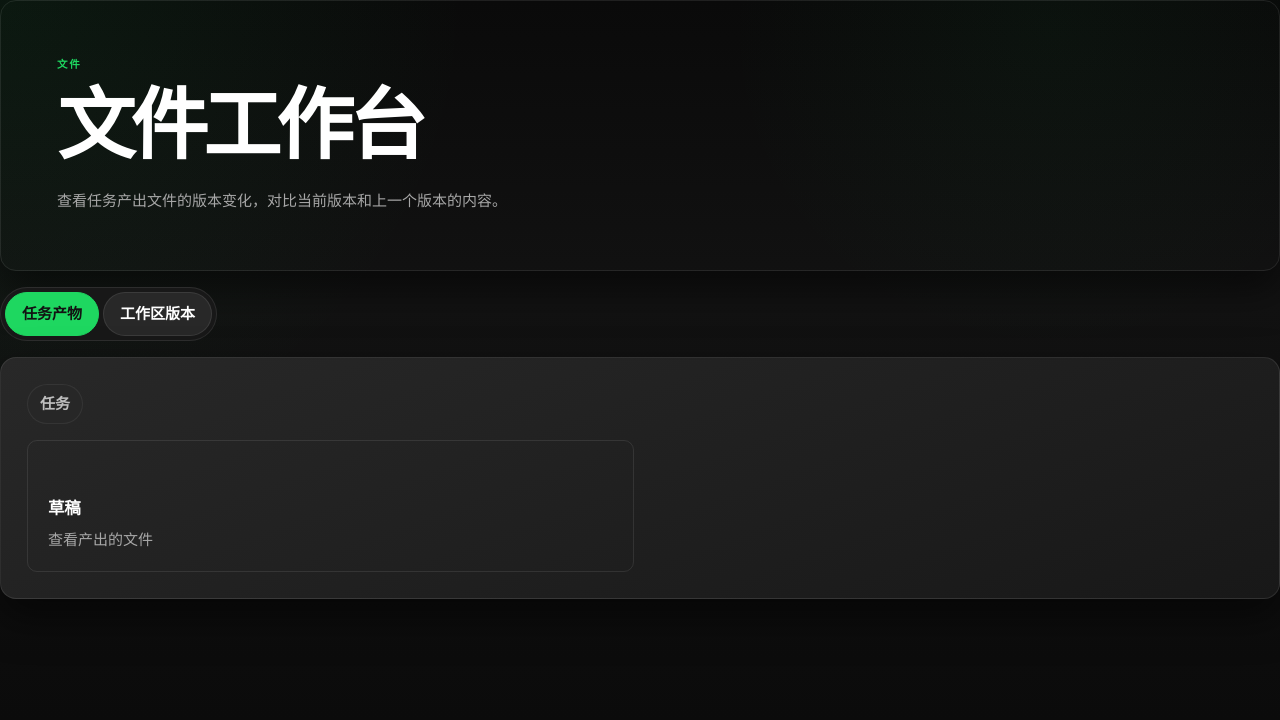
Test: FilesCenter 两级导航 › 首版（previous=null）展示首版无对比
Click the text "草稿".
click(64, 508)  # box [48,498,80,518]
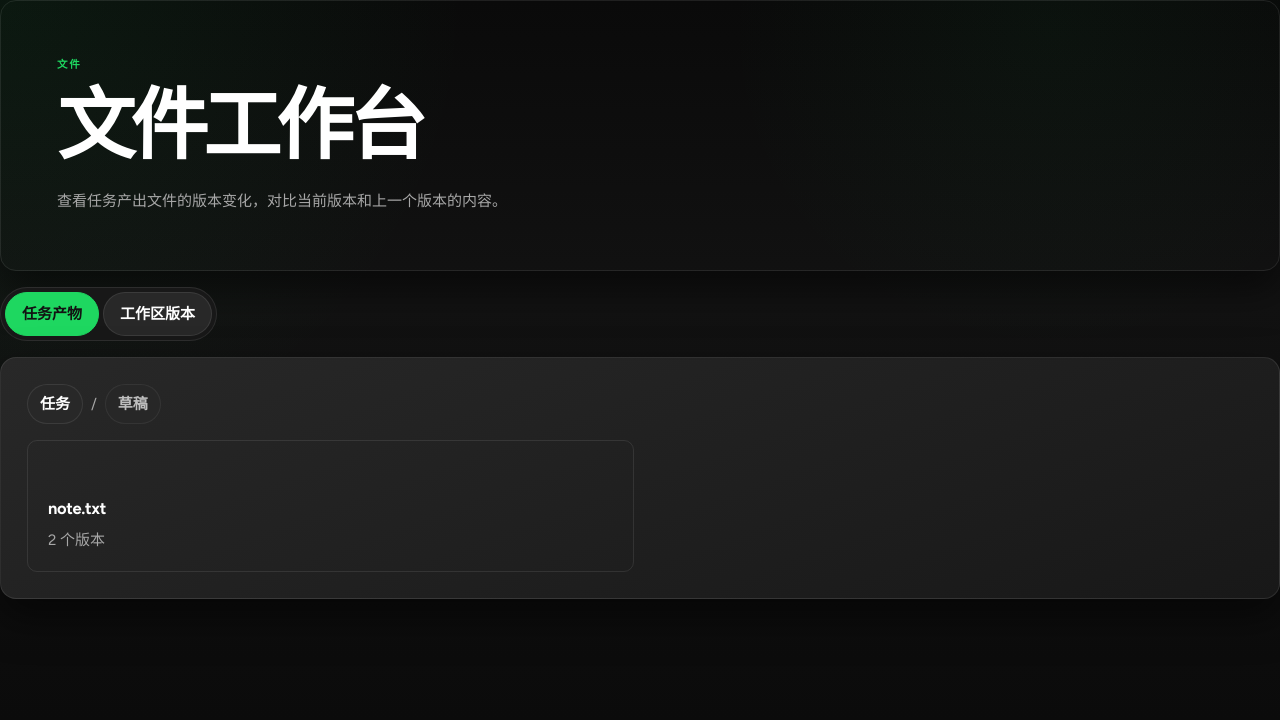
Expected: the text "note.txt" is shown
Click the text "note.txt".
click(77, 508)  # box [48,498,106,518]
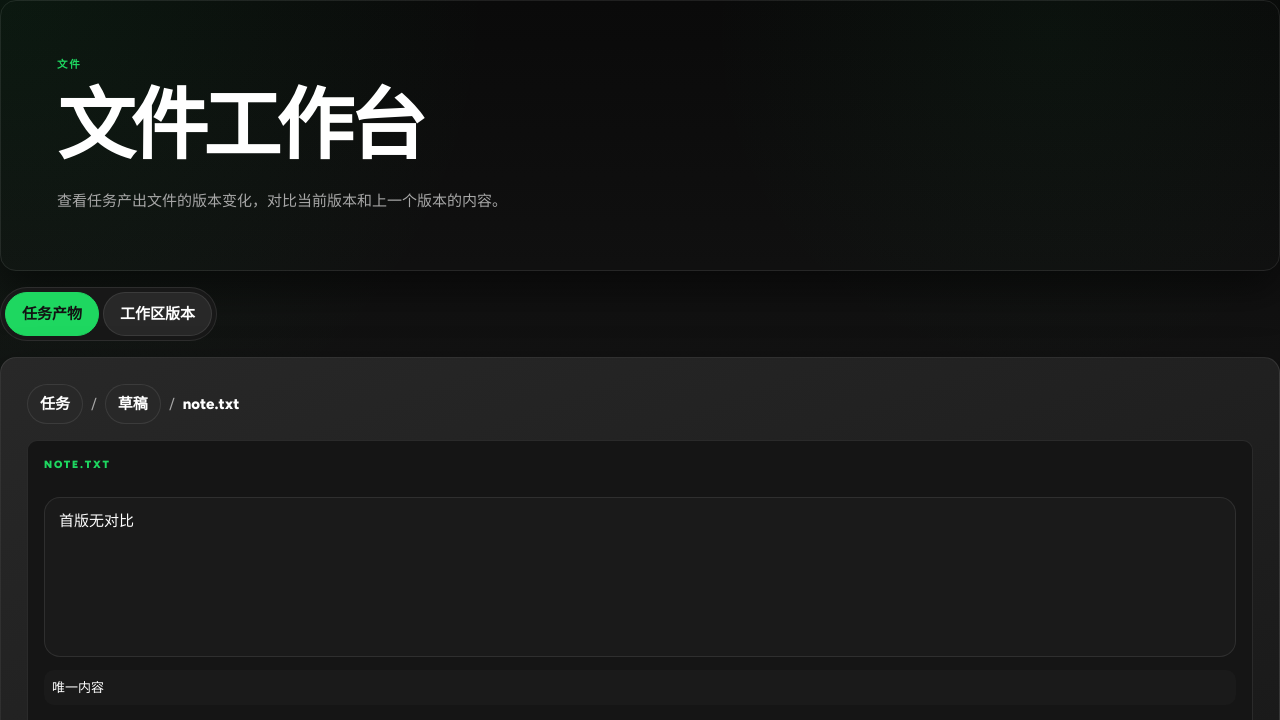
Expected: the text "首版无对比" is shown, [59,510,134,532]
Expected: the text "唯一内容" is shown, [44,670,1236,705]
